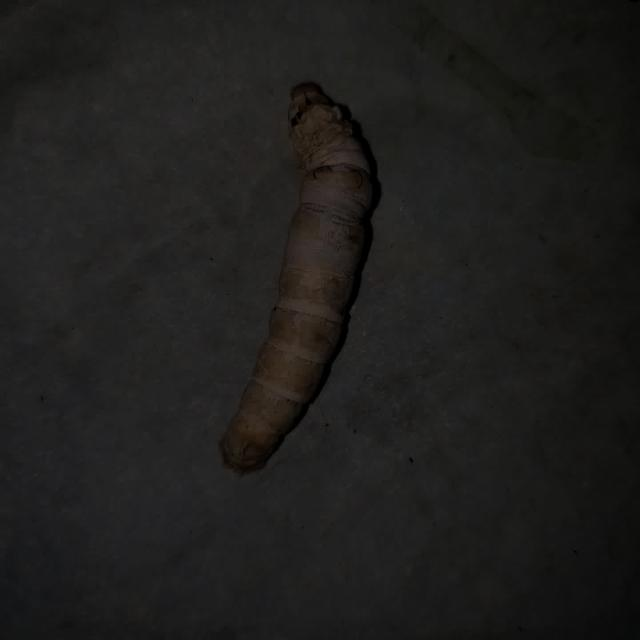Grasserie: (209, 71, 389, 482)
